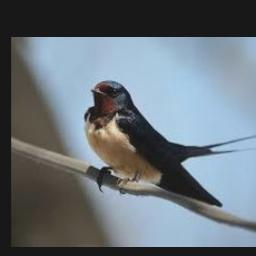Swallow: (85, 80, 256, 208)
